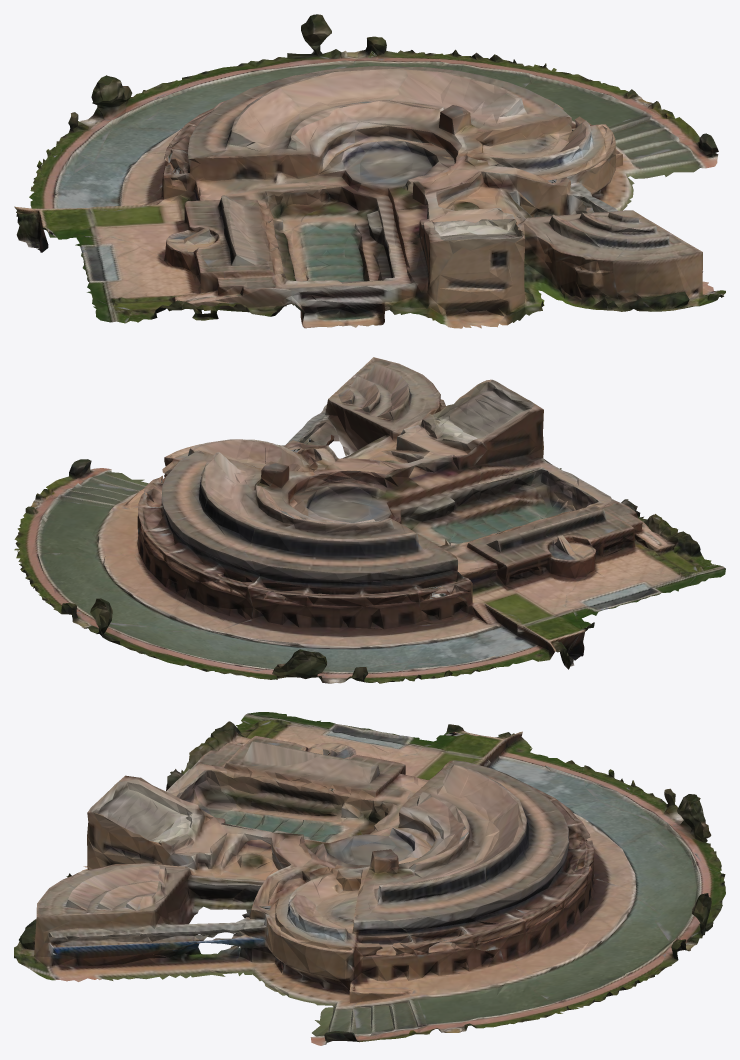
Rendered from virgilio-barco.glb.
3 renders of one model, top to bottom at view 1: azimuth 30°, elevation 25°; view 2: azimuth 150°, elevation 25°; view 3: azimuth 270°, elevation 25°, orthographic. The views are drawn at different scales.
Parts seen in each view (by area): view 1: virgilio-barco; view 2: virgilio-barco; view 3: virgilio-barco.
Boxes of the visible parts, x1,y1,x2,y2 form: virgilio-barco: [14, 14, 725, 328]; virgilio-barco: [14, 357, 725, 683]; virgilio-barco: [14, 712, 725, 1045].
Size of the model in its own units: 134 by 17.22 by 128.
Materials: 1 (1 with a texture image).
